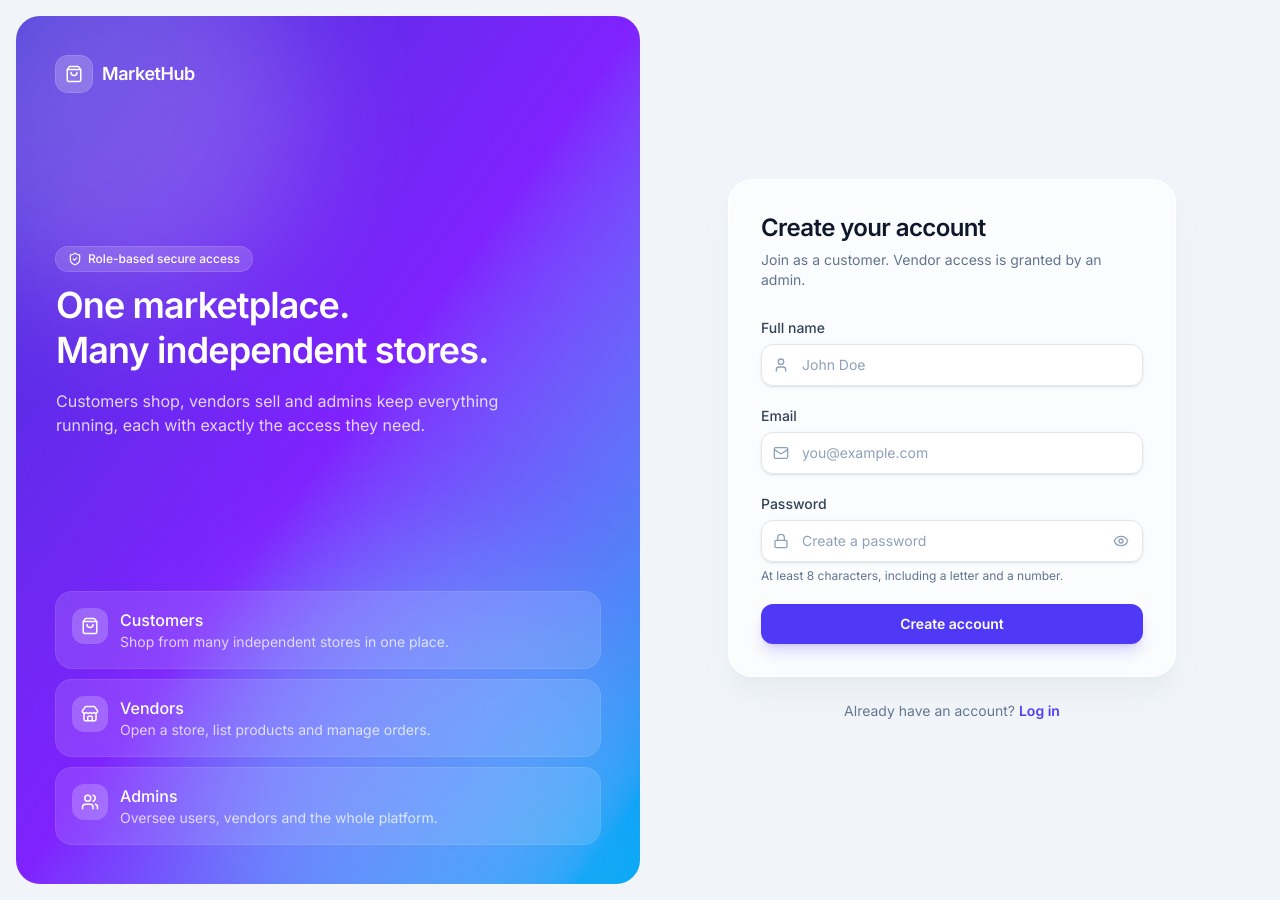
Test: Register › a duplicate email is shown as a form-level error
This screenshot has width=1280, height=900.
Click the button "Create account": click(952, 624) [761,604,1143,644]
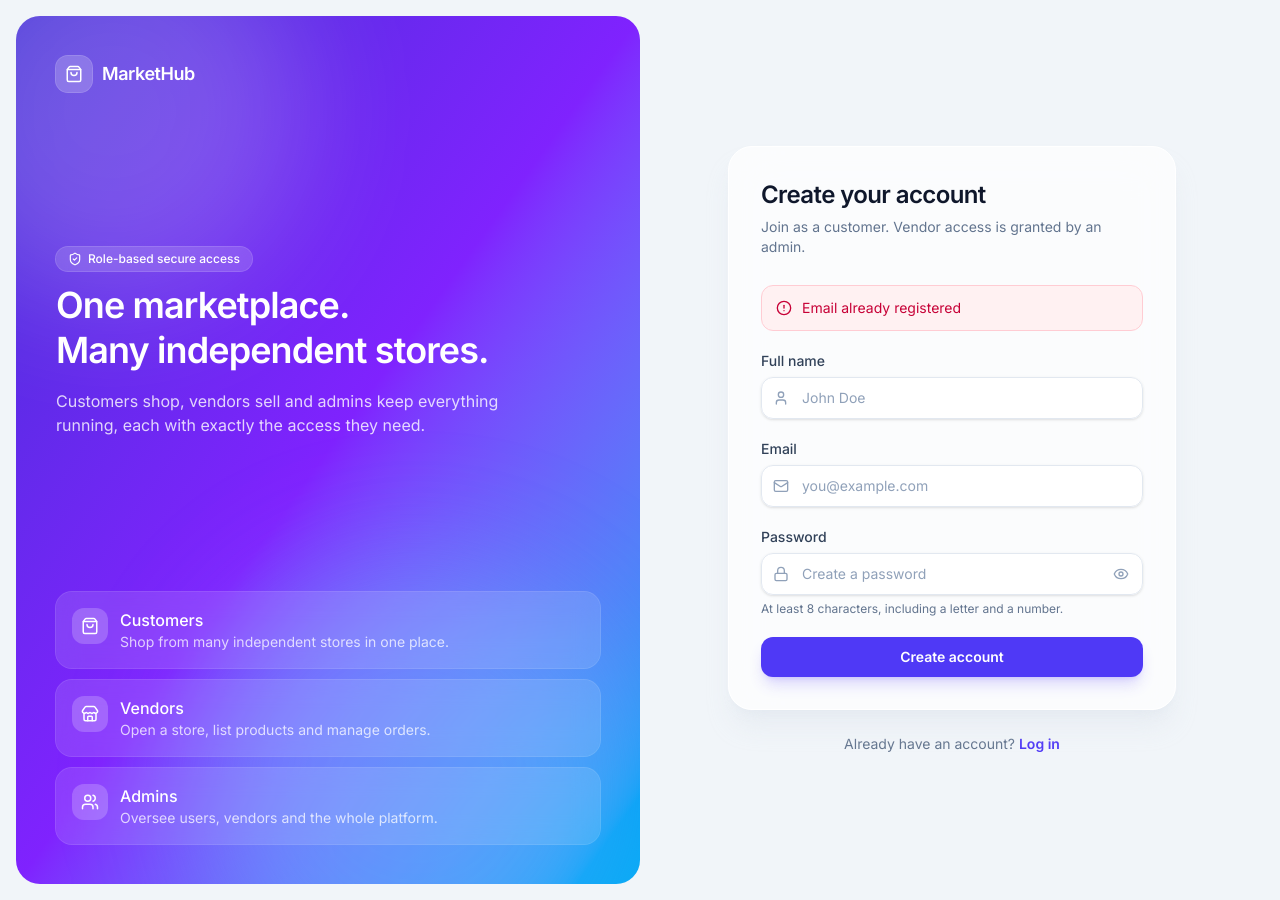
Check: the text "Email already registered" is shown, box [802,298,961,318]
